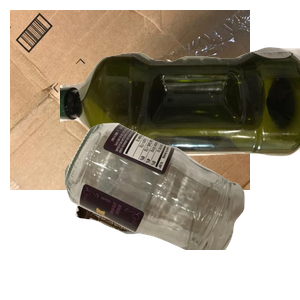cardboard: (10, 10, 250, 190)
glass: (62, 120, 300, 300)
plastic: (60, 44, 300, 195)
trash: (73, 171, 242, 300)
